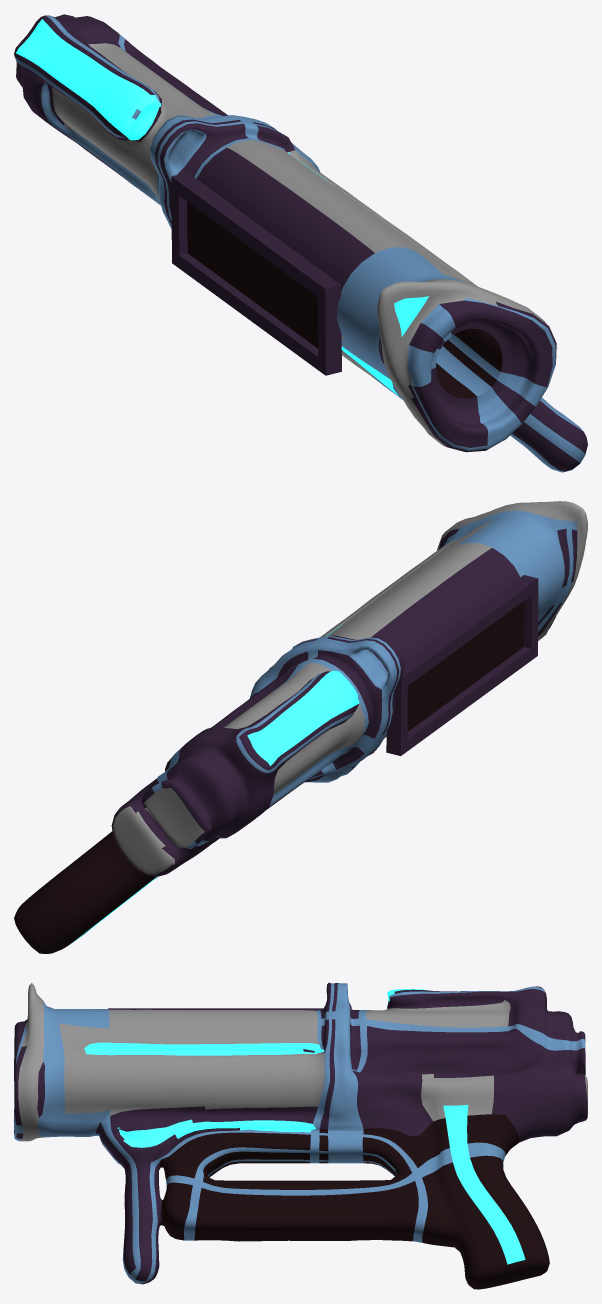
The model's file is gun ONE SCREEN.fbx.
3 renders of one model, top to bottom at view 1: azimuth 30°, elevation 25°; view 2: azimuth 150°, elevation 25°; view 3: azimuth 270°, elevation 25°, orthographic. The views are drawn at different scales.
Visible parts, largest first — view 1: Retopo_mesh_0.001; view 2: Retopo_mesh_0.001; view 3: Retopo_mesh_0.001.
Boxes of the visible parts, x1=… form: Retopo_mesh_0.001: x1=14, y1=14, x2=587, y2=472; Retopo_mesh_0.001: x1=14, y1=501, x2=587, y2=953; Retopo_mesh_0.001: x1=14, y1=982, x2=587, y2=1289.
Size of the model in its own units: 43.27 by 43.65 by 102.
